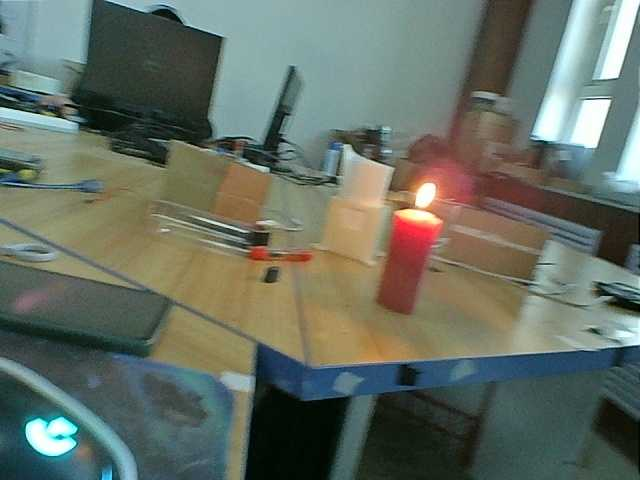candle: (370, 215, 438, 314)
fire: (394, 180, 448, 224)
